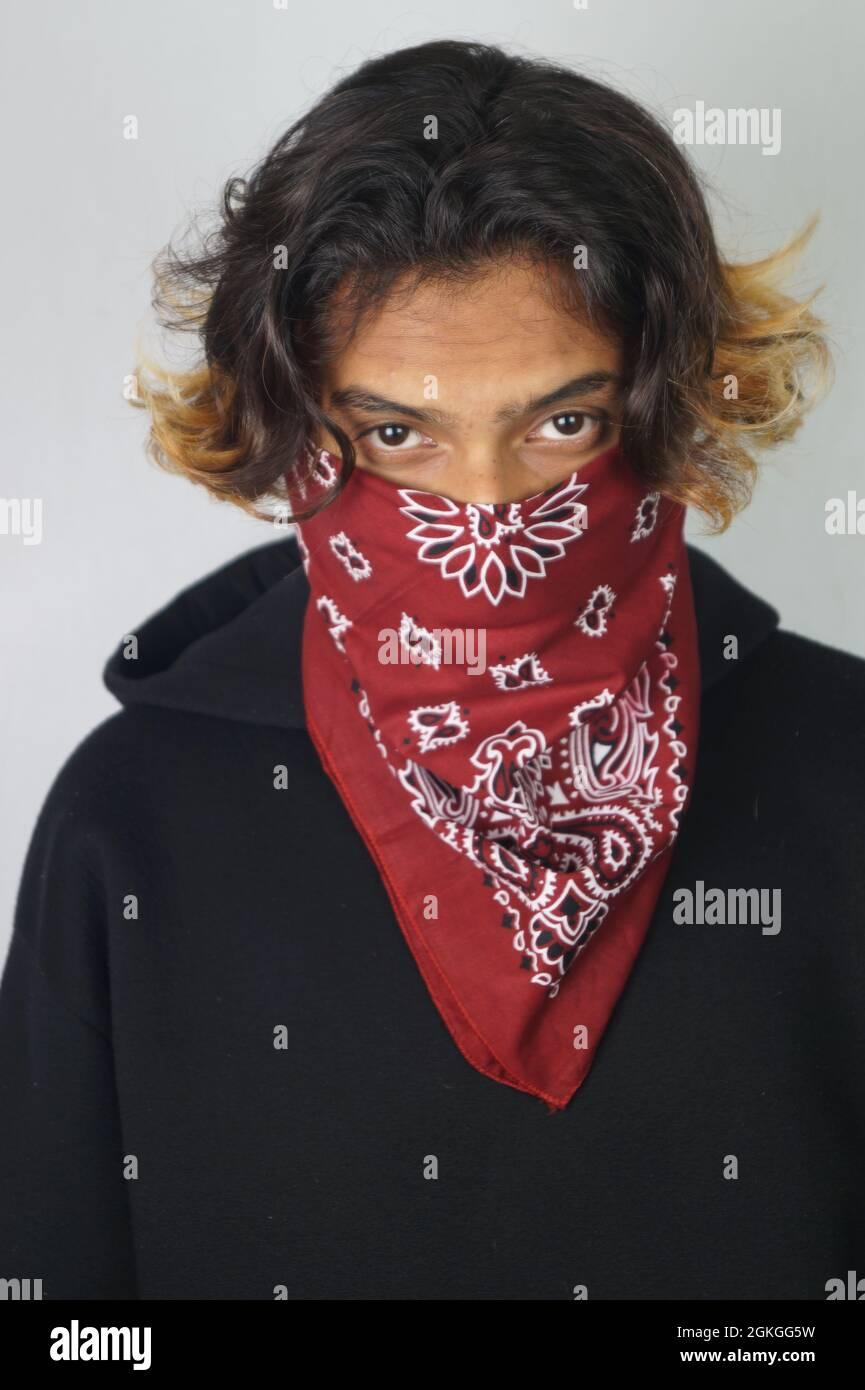scarf-kerchief: (277, 373, 727, 1140)
